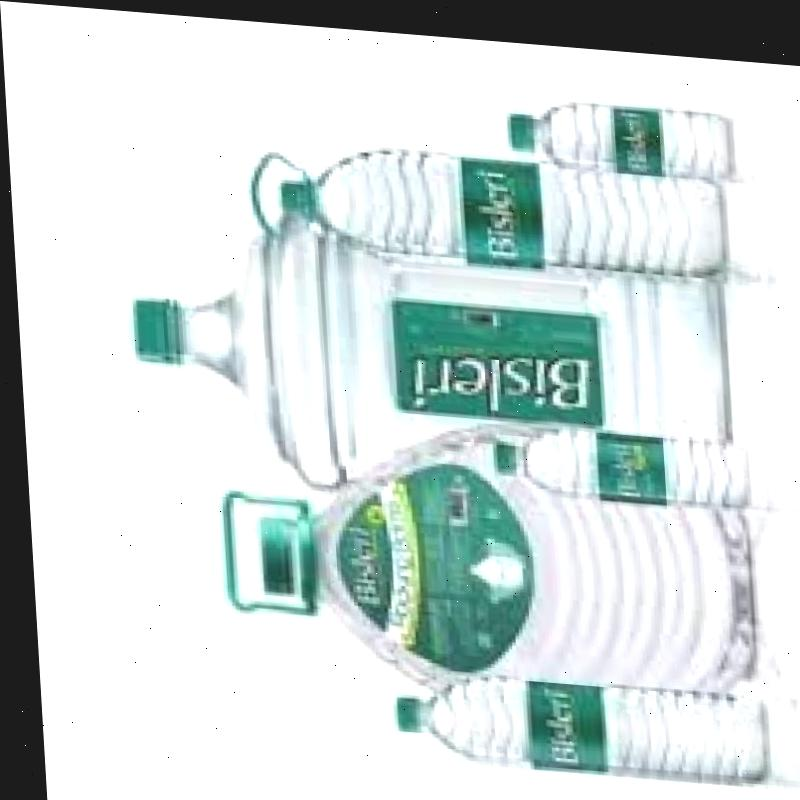botella: (278, 133, 724, 274), (388, 656, 765, 773), (488, 410, 746, 497), (508, 83, 735, 166)
